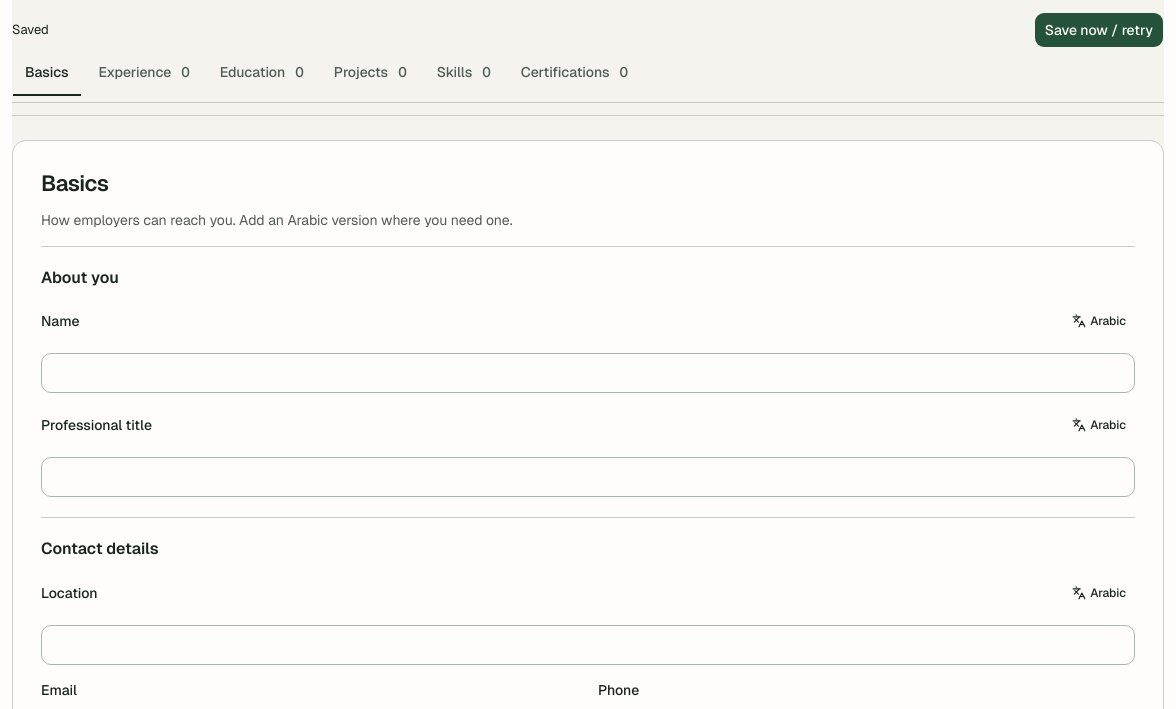
Test: retains edits after a failed write and retries successfully
Type "Keep this edit" into the field labelled "Name" at (588, 373), box x1=41 y1=353 x2=1135 y2=393
Wait 650 ms
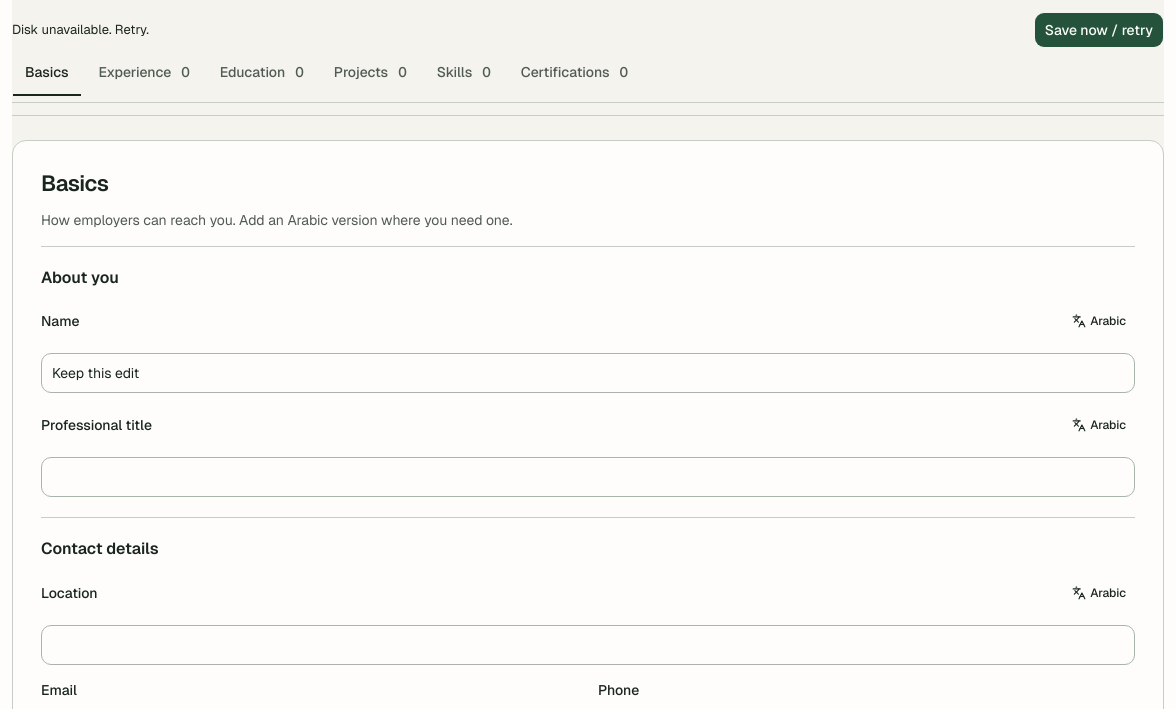
Check: the message shows "Disk unavailable", box x1=12 y1=21 x2=149 y2=38
Click the button "Save now / retry" at (1099, 30), box x1=1034 y1=12 x2=1164 y2=48
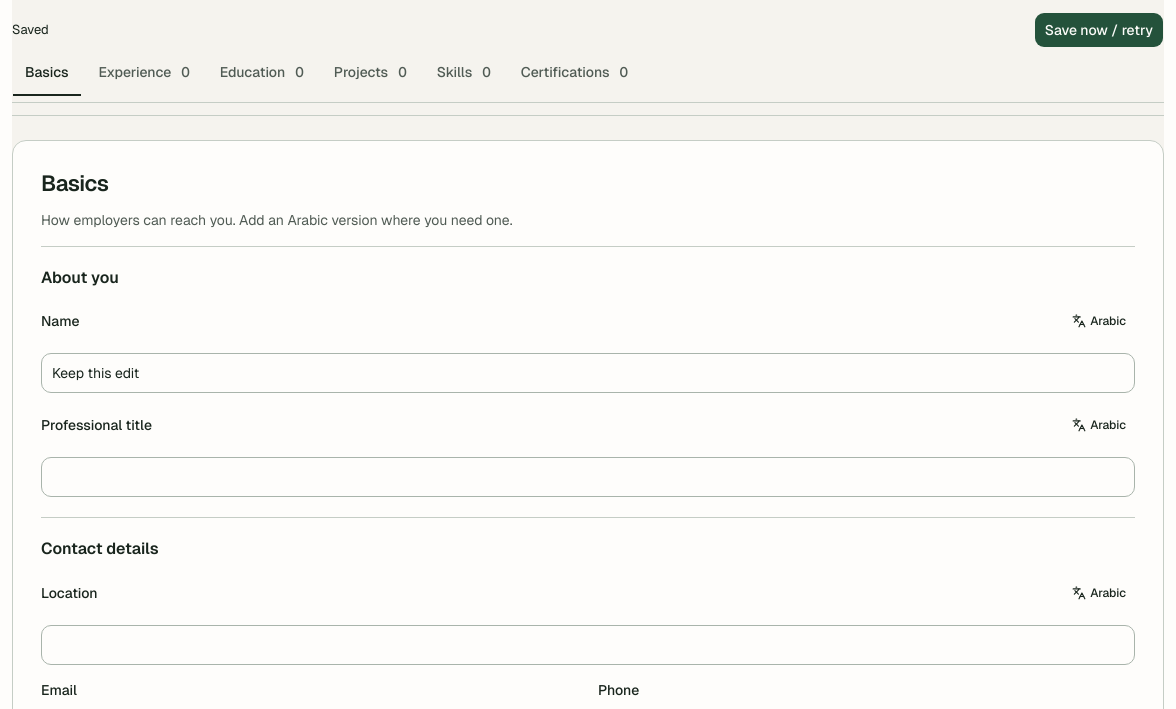
Check: the message reads "Saved", box x1=12 y1=21 x2=49 y2=38
